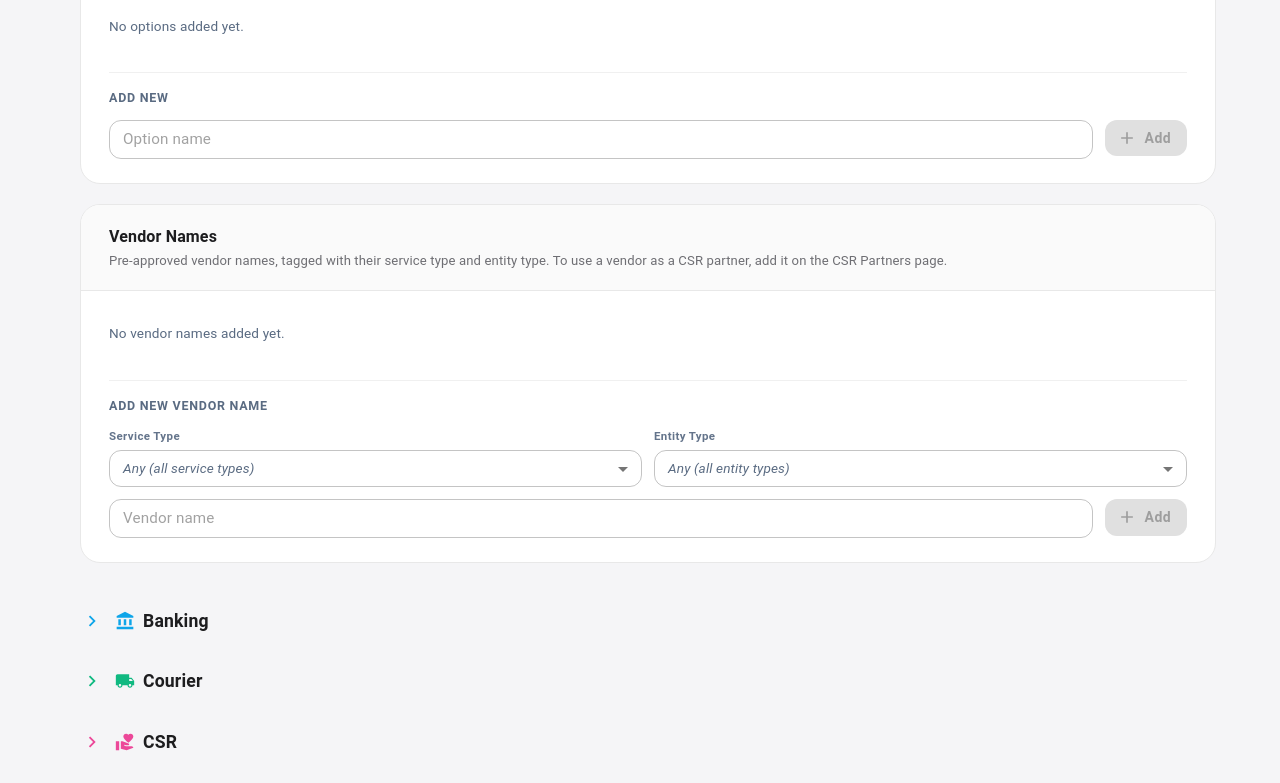
Scenario: a refused rename says so and leaves the old name on screen
(page scrolled)
Click the text "CSR".
click(160, 742)  # box [143, 729, 177, 755]
(page scrolled)
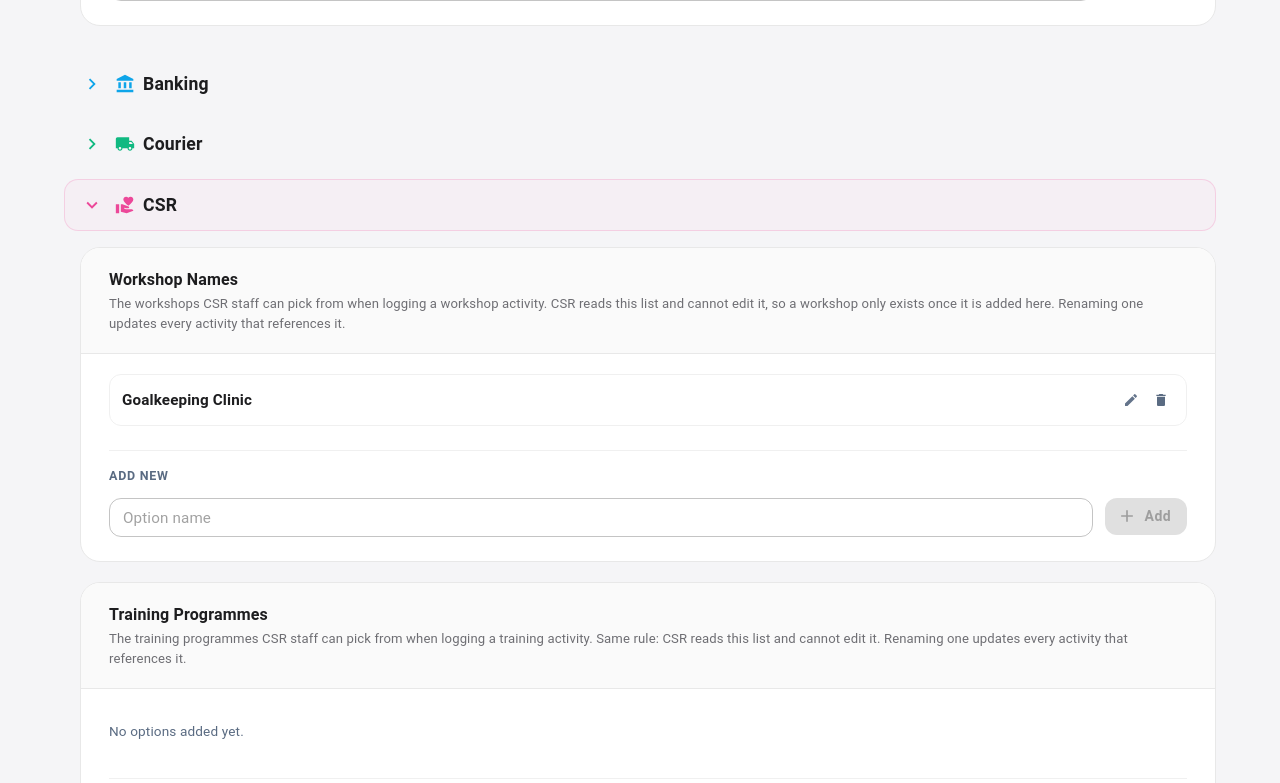
Expected: the text "Goalkeeping Clinic" is shown, [122, 389, 252, 412]
Click the button named "Edit".
click(1131, 400)  # box [1118, 387, 1144, 413]
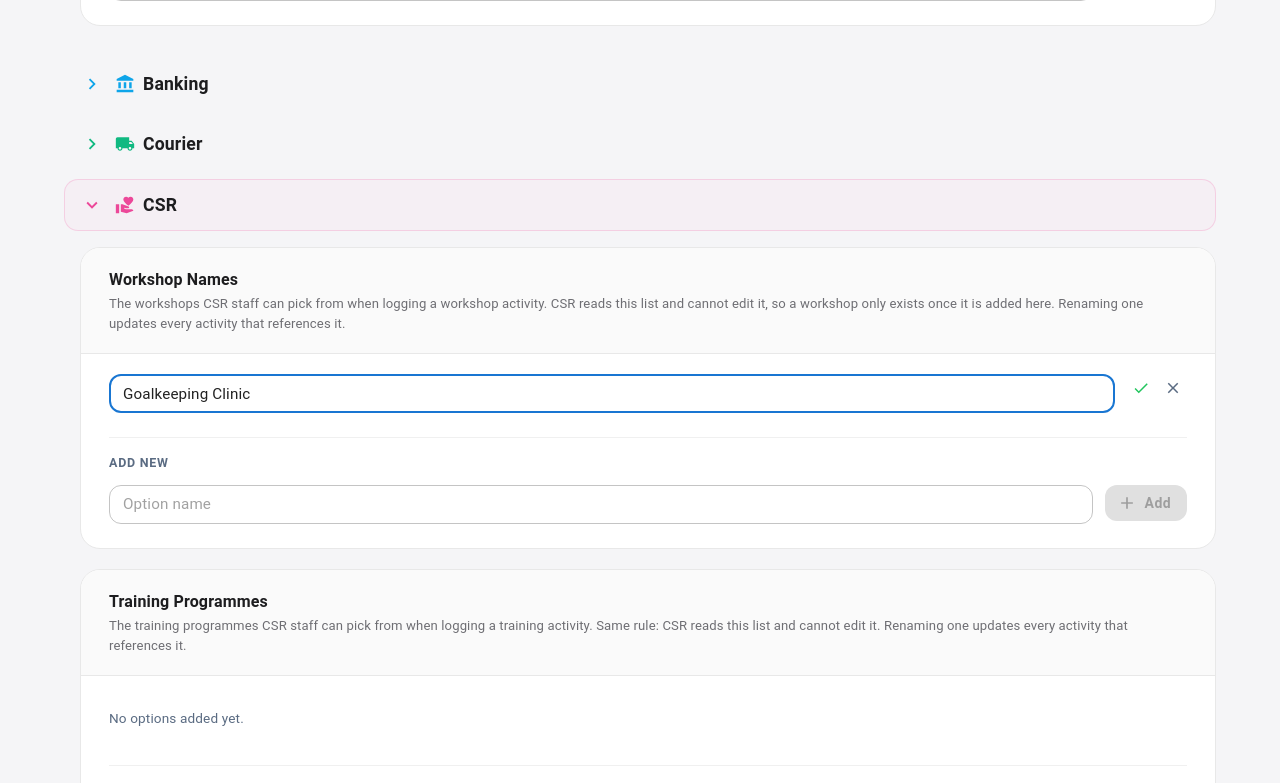
Replace the text in the field showing "Goalkeeping Clinic" with "Goalkeeping Workshop" at [612, 394], box [109, 374, 1115, 413]
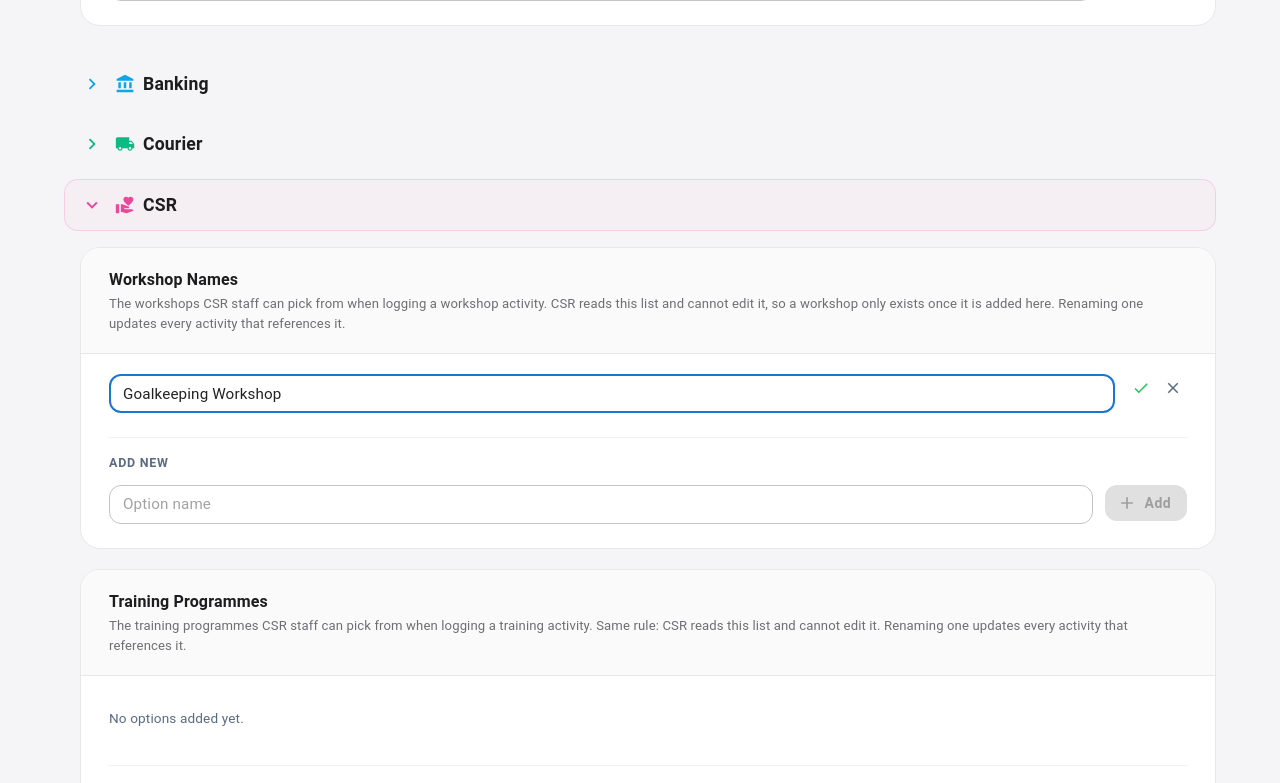
Click the button named "Save".
click(1141, 388)  # box [1127, 374, 1155, 402]
(page scrolled)
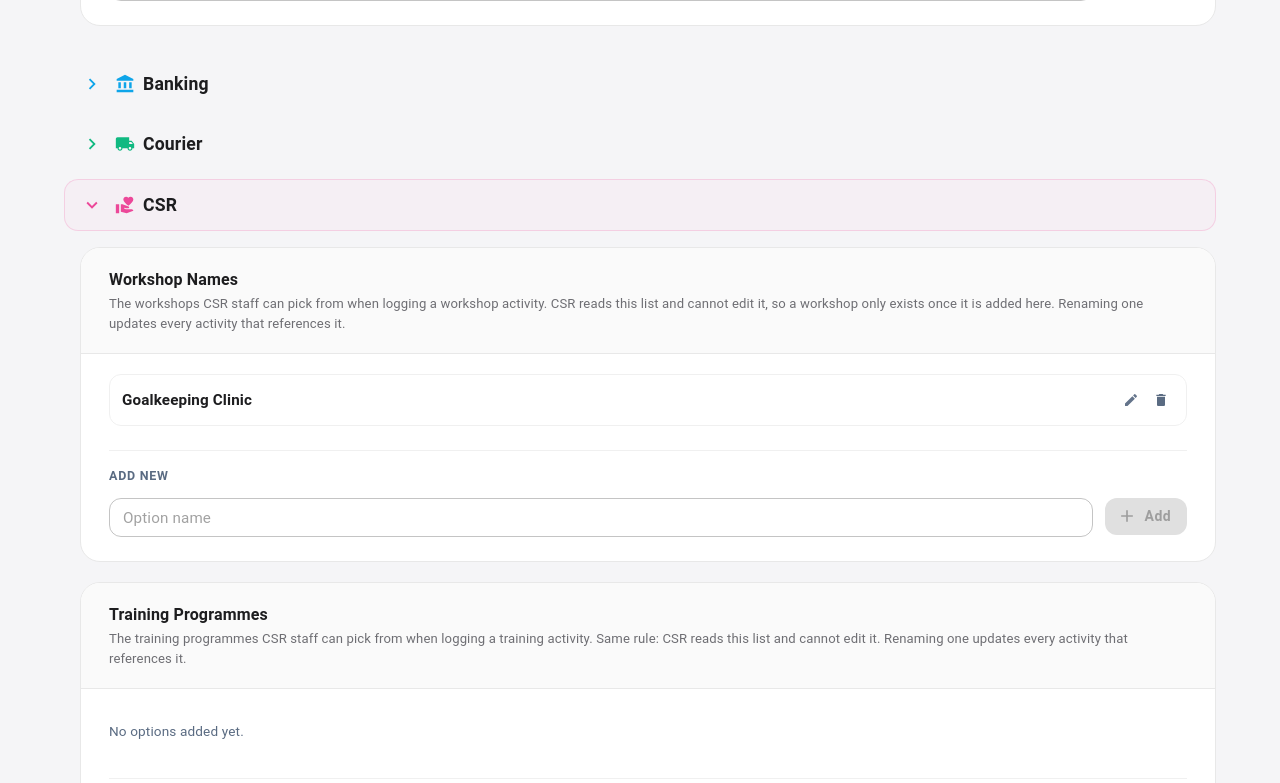
Expected: the text "Goalkeeping Clinic" is shown, [122, 389, 252, 412]
